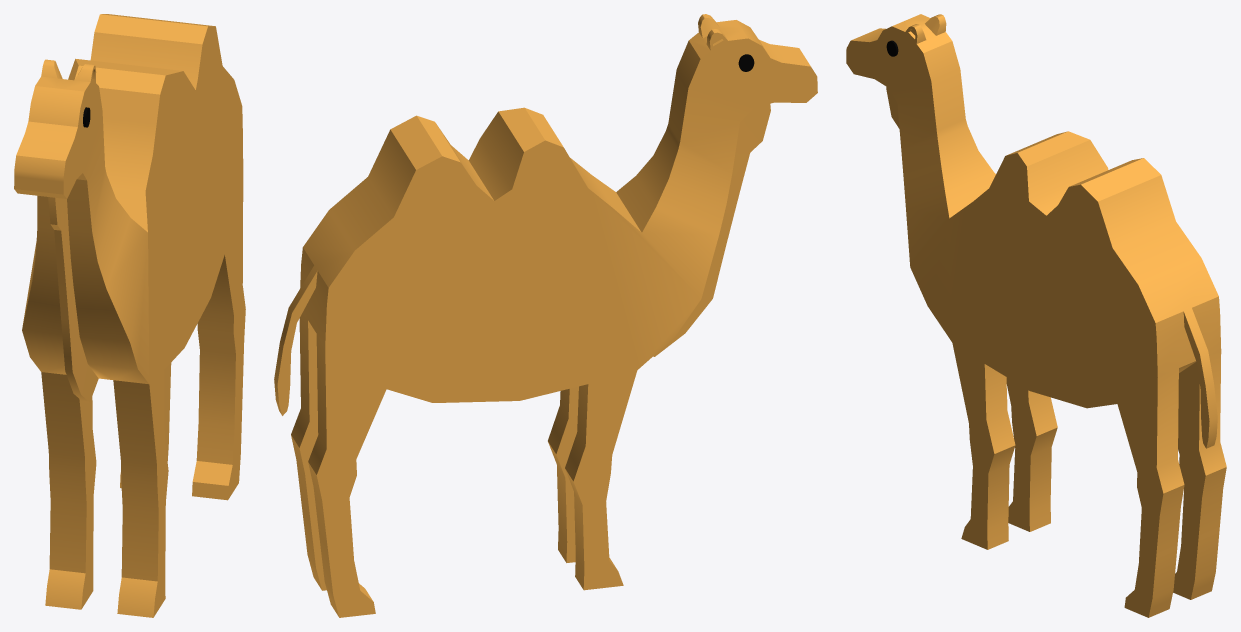
File: two_hump_camel.gltf
3 views of the same model, side by side, from view 1: azimuth 30°, elevation 25°; view 2: azimuth 150°, elevation 25°; view 3: azimuth 270°, elevation 25° (orthographic). The views are drawn at different scales.
Visible parts, largest first — view 1: Plane.127; view 2: Plane.127; view 3: Plane.127.
Part boxes in pixels (bbox=[...]): Plane.127: bbox=[14, 14, 245, 617]; Plane.127: bbox=[274, 14, 817, 617]; Plane.127: bbox=[846, 14, 1226, 617].
Size of the model in its own units: 1.53 by 2.11 by 1.53.
1 material, 1 textured.
